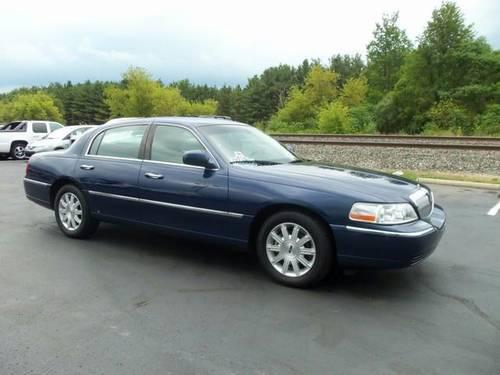Car: (16, 97, 459, 307), (1, 109, 90, 165)
